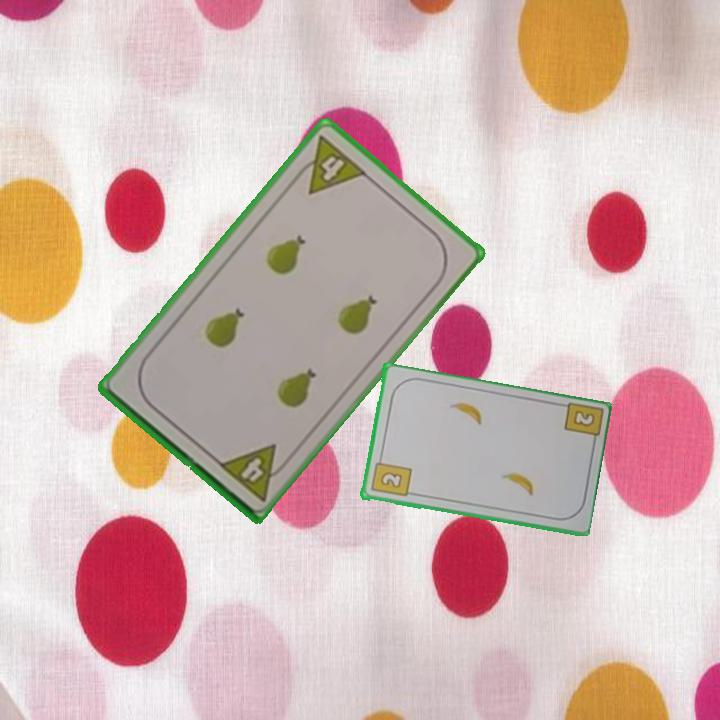2b: (367, 453, 413, 500), (560, 399, 603, 449)
4p: (289, 131, 370, 197), (214, 440, 293, 504)
